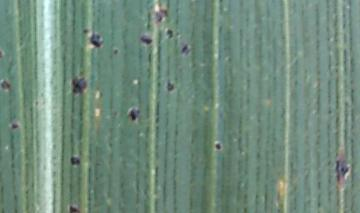tarspot: (333, 159, 351, 182), (69, 77, 88, 95), (89, 32, 104, 48), (154, 9, 170, 23), (127, 108, 141, 122), (139, 34, 153, 48), (179, 43, 192, 57), (165, 79, 176, 92), (1, 79, 11, 93), (69, 156, 80, 166), (67, 205, 80, 213), (165, 28, 174, 39), (214, 142, 223, 152), (9, 122, 20, 130), (111, 47, 119, 57), (82, 27, 89, 35), (1, 49, 3, 61)
